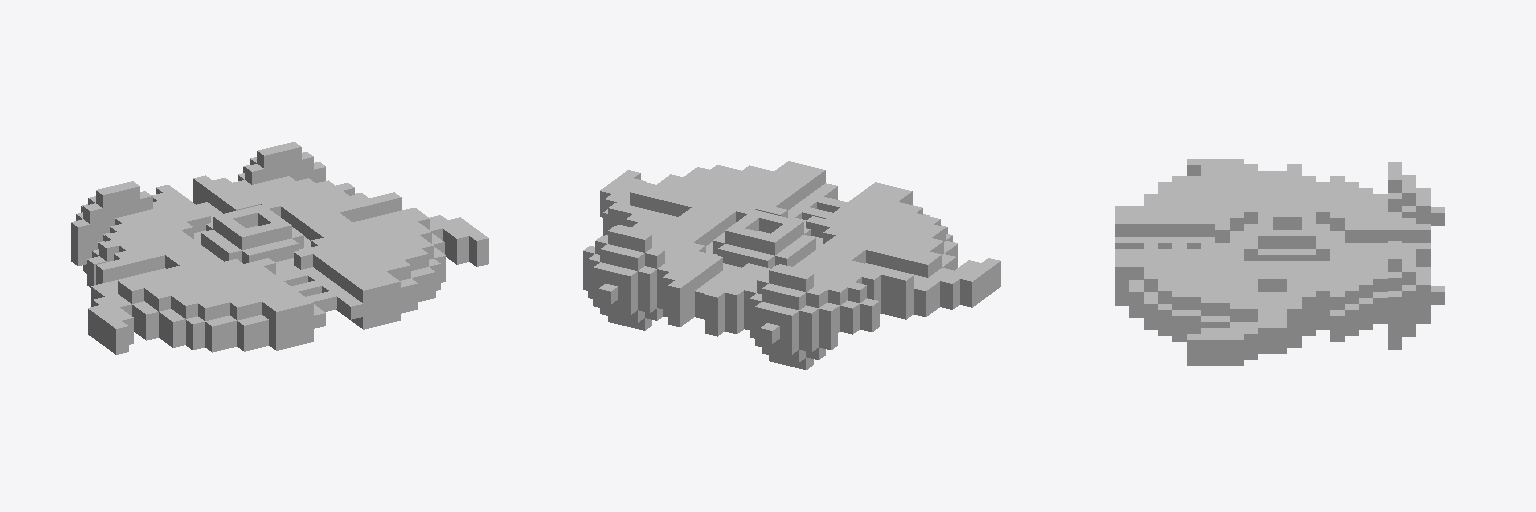
File: EnemyPrefab2.obj
The picture shows the model from 3 angles: view 1: azimuth 30°, elevation 25°; view 2: azimuth 150°, elevation 25°; view 3: azimuth 270°, elevation 25°; orthographic projection.
Parts seen in each view (by area): view 1: object 1; view 2: object 1; view 3: object 1.
Boxes of the visible parts, x1,y1,x2,y2 form: object 1: [71, 142, 488, 354]; object 1: [583, 161, 1000, 369]; object 1: [1115, 159, 1444, 365].
Size of the model in its own units: 3 by 0.7 by 2.3.